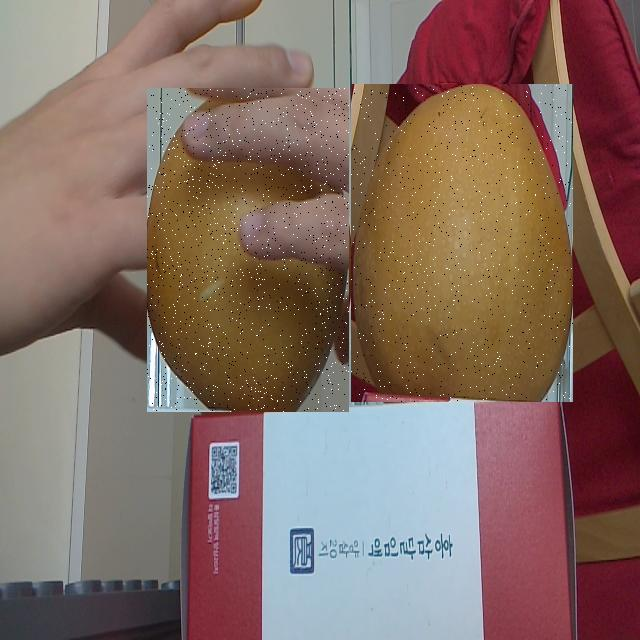pear: (351, 85, 573, 402), (147, 88, 349, 412)
